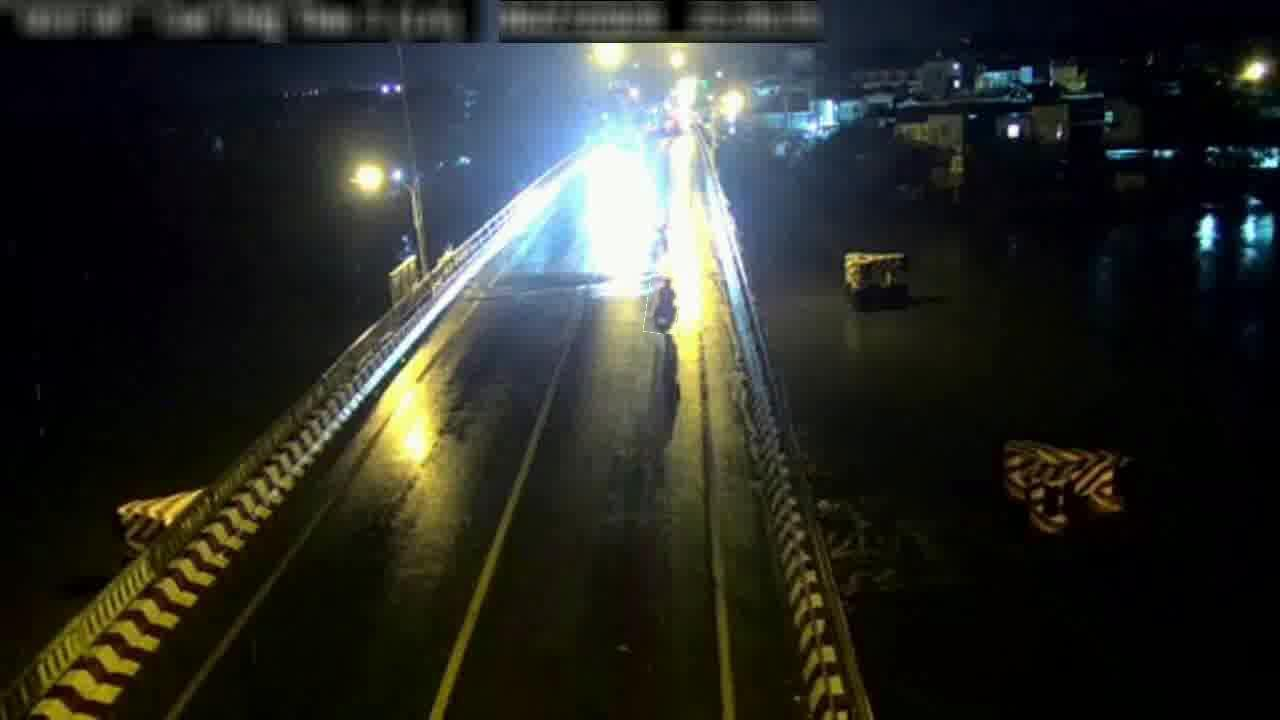motorbike: (645, 275, 680, 335)
